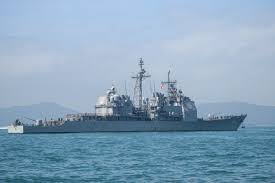tau_muctieu: (17, 75, 251, 136)
